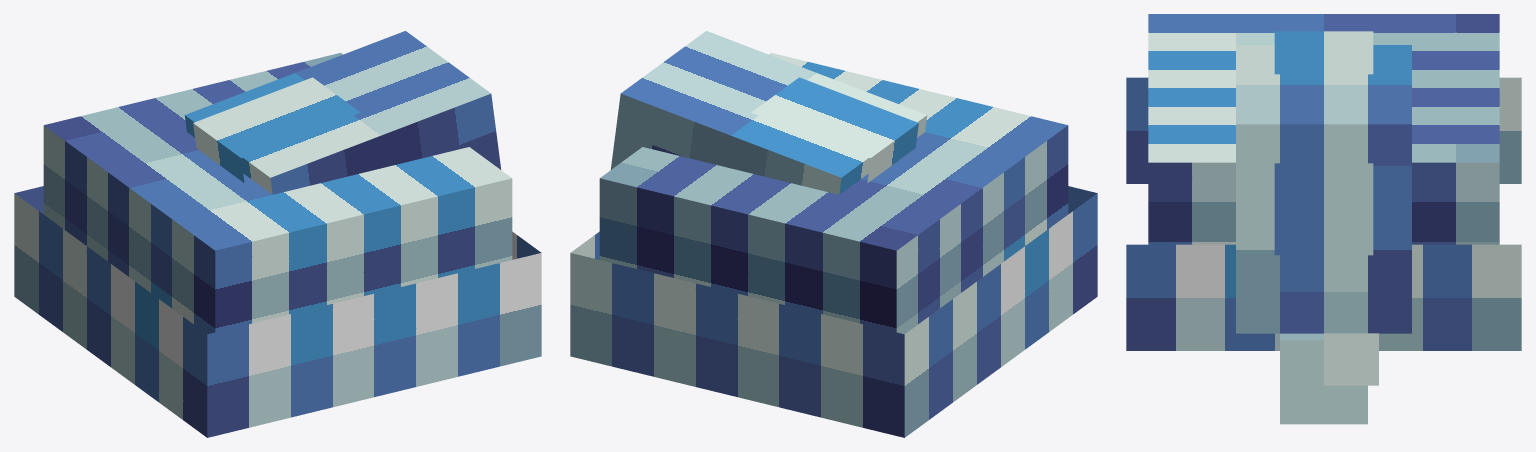
File: sl_night_cap.glb
The picture shows the model from 3 angles, left to right: view 1: azimuth 30°, elevation 25°; view 2: azimuth 150°, elevation 25°; view 3: azimuth 270°, elevation 25°; orthographic projection. The views are drawn at different scales.
Parts seen in each view (by area): view 1: bb_night_cap; view 2: bb_night_cap; view 3: bb_night_cap.
Boxes of the visible parts, x1,y1,x2,y2 form: bb_night_cap: (14,31,541,437); bb_night_cap: (570,31,1097,437); bb_night_cap: (1126,14,1521,424).
Bounding box in the file's own units: 0.6738 × 0.4811 × 0.5625.
1 material, 1 textured.
